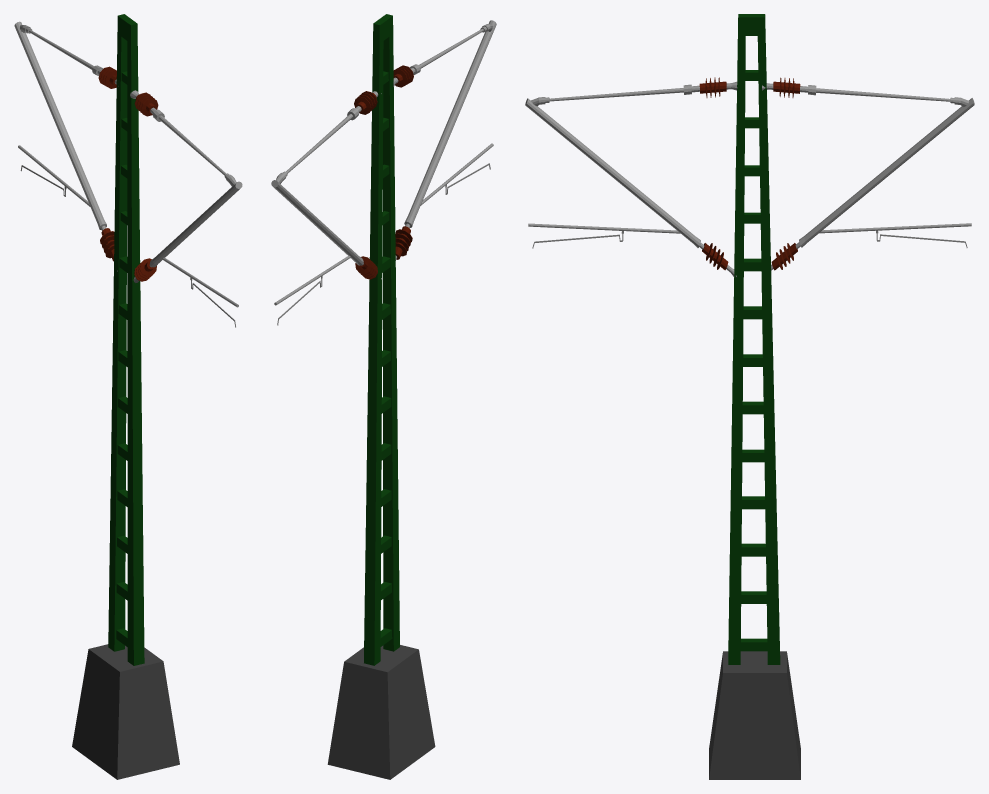
The model's file is Pole1_double.obj.
3 renders of one model, left to right at view 1: azimuth 30°, elevation 25°; view 2: azimuth 150°, elevation 25°; view 3: azimuth 270°, elevation 25°, orthographic.
Parts seen in each view (by area): view 1: Cube_Cube.001; view 2: Cube_Cube.001; view 3: Cube_Cube.001.
Boxes of the visible parts, <box> form: Cube_Cube.001: <box>14,14,242,779</box>; Cube_Cube.001: <box>271,14,496,779</box>; Cube_Cube.001: <box>525,14,974,779</box>.
Bounding box in the file's own units: 0.7631 × 8.56 × 4.66.
